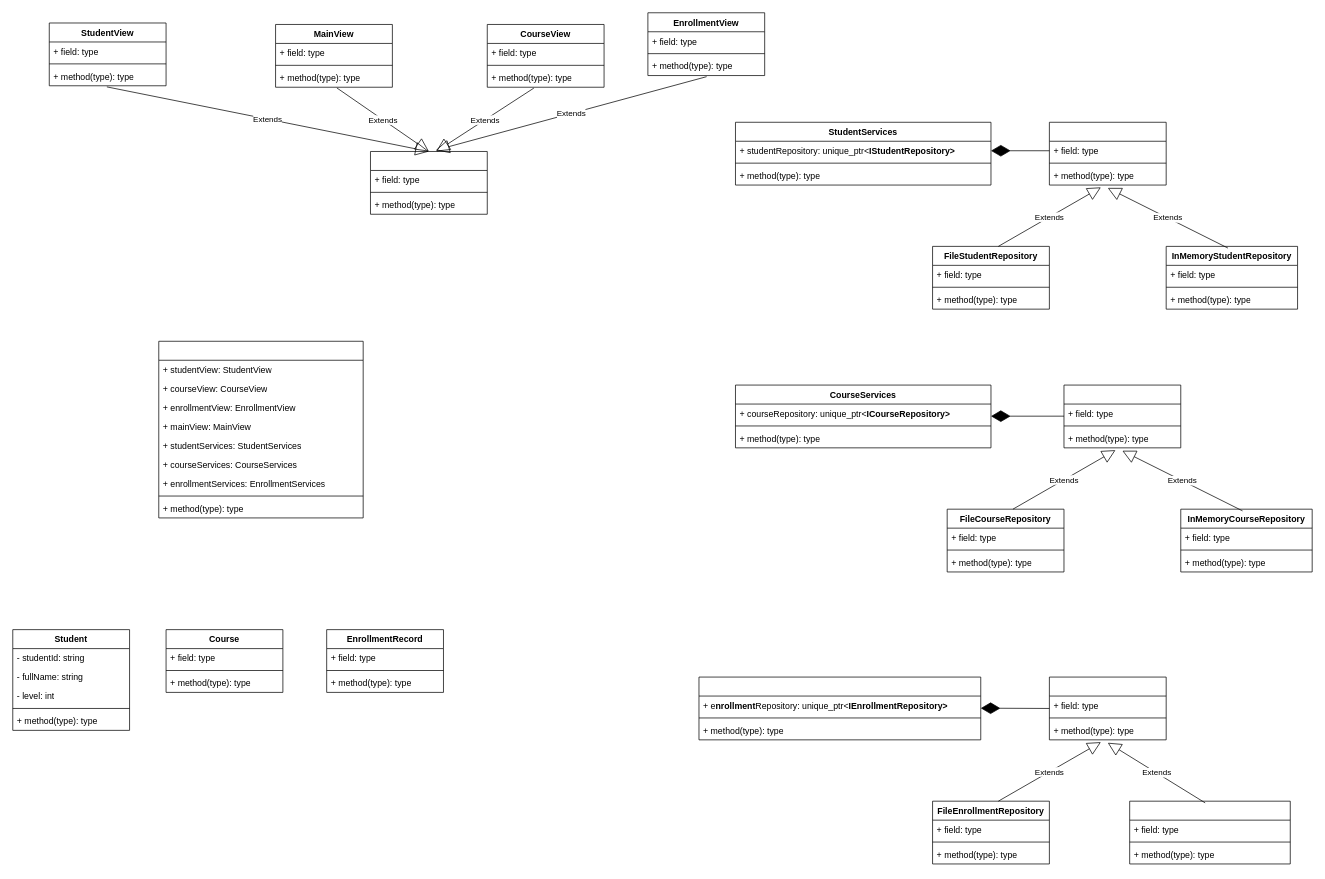
This 1325x879 diagram has some shape labels left out. The box of each missing label's shape, as (x1, y1, x2, y2) in pixels:
AppControl: (158, 341, 363, 518)
BaseView: (370, 151, 487, 214)
EnrollmentServices: (698, 676, 981, 740)
ICourseRepository: (1063, 384, 1181, 448)
IEnrollmentRepository: (1049, 676, 1166, 740)
InMemoryEnrollmentRepository: (1129, 800, 1290, 864)
IStudentRepository: (1049, 122, 1166, 185)
